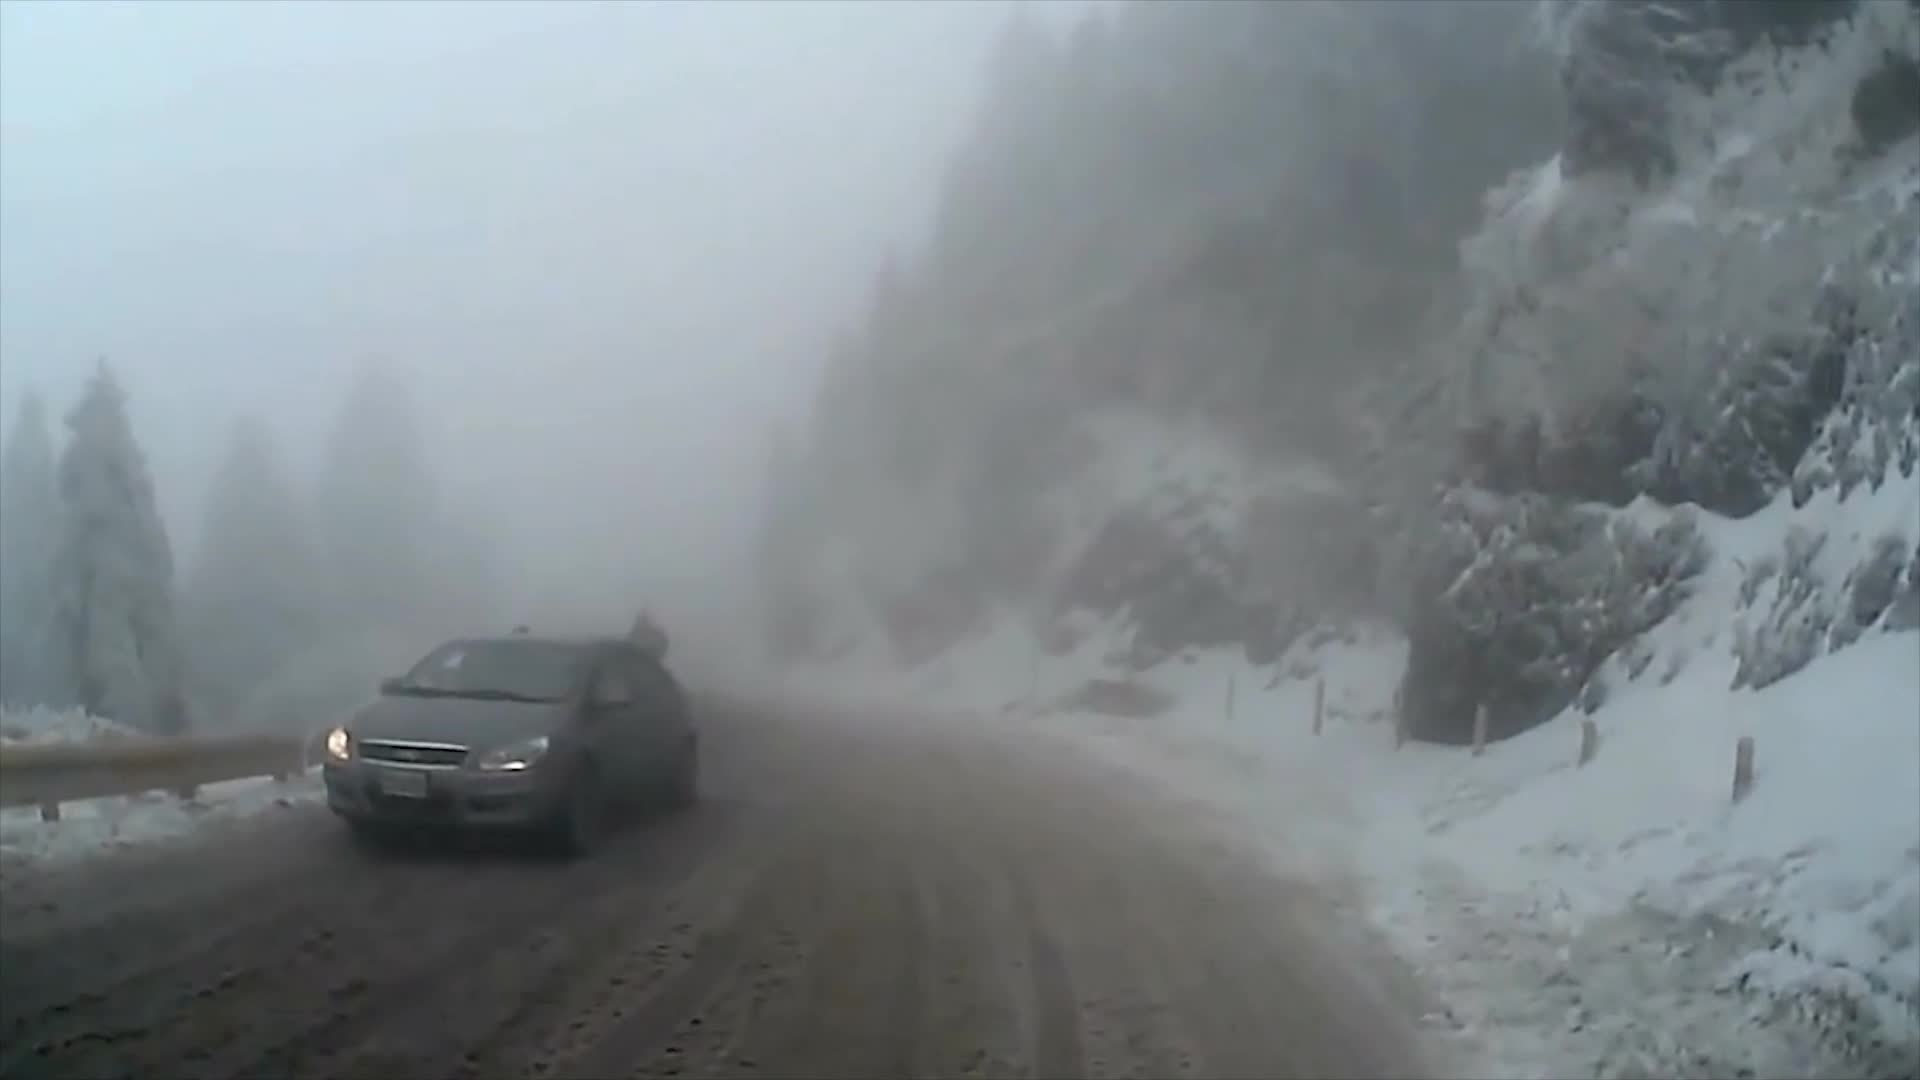vehicle: (320, 636, 698, 861)
